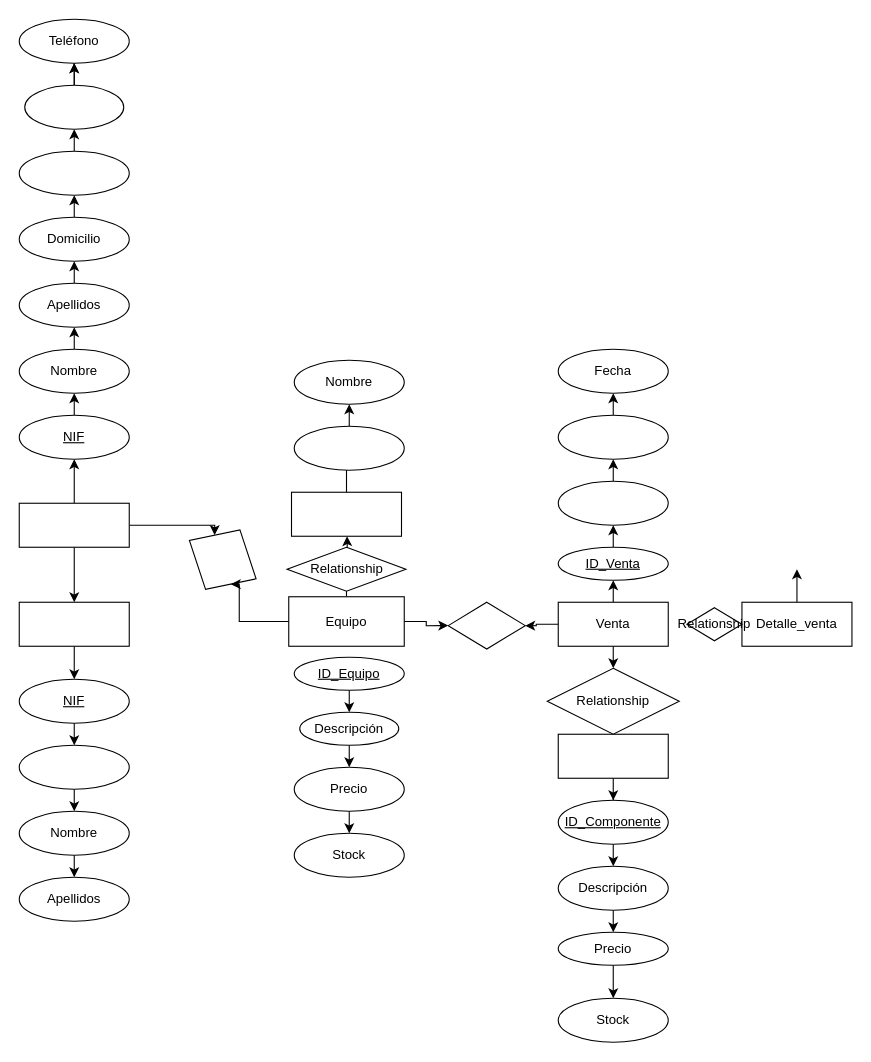
The diagram is 871 pixels wide and 1062 high, and some of its shapes have lost their labels. Each missing label, with the box of its shape:
Clientes: (18, 502, 129, 547)
Componente: (557, 733, 668, 778)
Empleado: (18, 601, 129, 646)
Escribir: (447, 601, 525, 649)
ID_Seccion: (18, 744, 129, 789)
ID_Sección: (293, 425, 404, 470)
Localidad: (24, 84, 124, 129)
NIF_Cliente: (557, 480, 668, 525)
NIF_Empleado: (557, 414, 668, 459)
Provincia: (18, 150, 129, 195)
Publica: (171, 509, 273, 609)
Sección: (290, 491, 402, 536)
